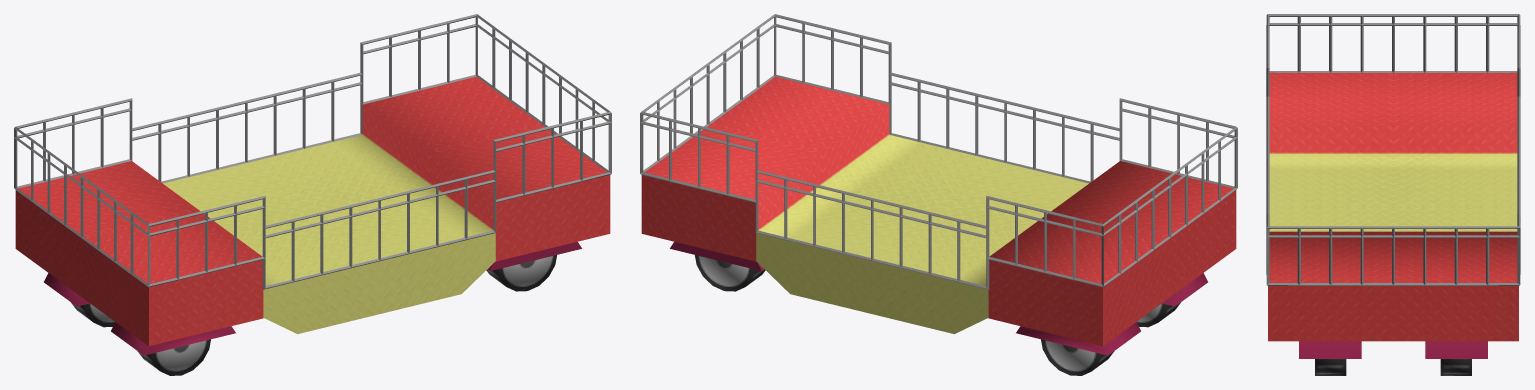
The model's file is palco02.fbx.
3 views of the same model, side by side, from view 1: azimuth 30°, elevation 25°; view 2: azimuth 150°, elevation 25°; view 3: azimuth 270°, elevation 25° (orthographic). The views are drawn at different scales.
Visible parts, largest first — view 1: palco01.001, grade.001; view 2: palco01.001, grade.001; view 3: palco01.001, grade.001.
Part boxes in pixels (box(x1,y1,x2,y2)): palco01.001: box(15, 76, 610, 375); grade.001: box(14, 14, 611, 289); palco01.001: box(641, 76, 1236, 375); grade.001: box(640, 14, 1237, 289); palco01.001: box(1268, 72, 1518, 375); grade.001: box(1266, 14, 1520, 285).
Bounding box in the file's own units: 805 × 305 × 405.
